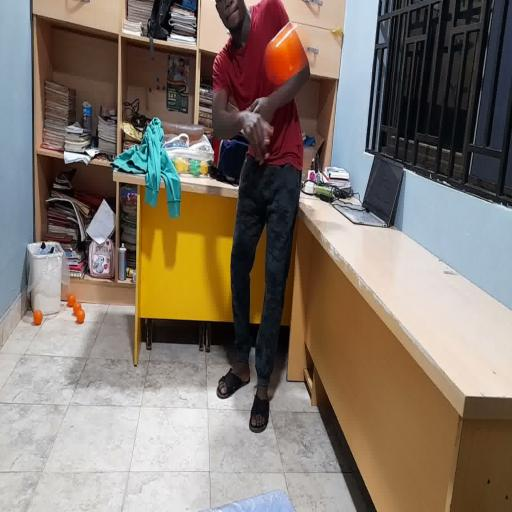plastic-ball: (265, 23, 307, 85)
